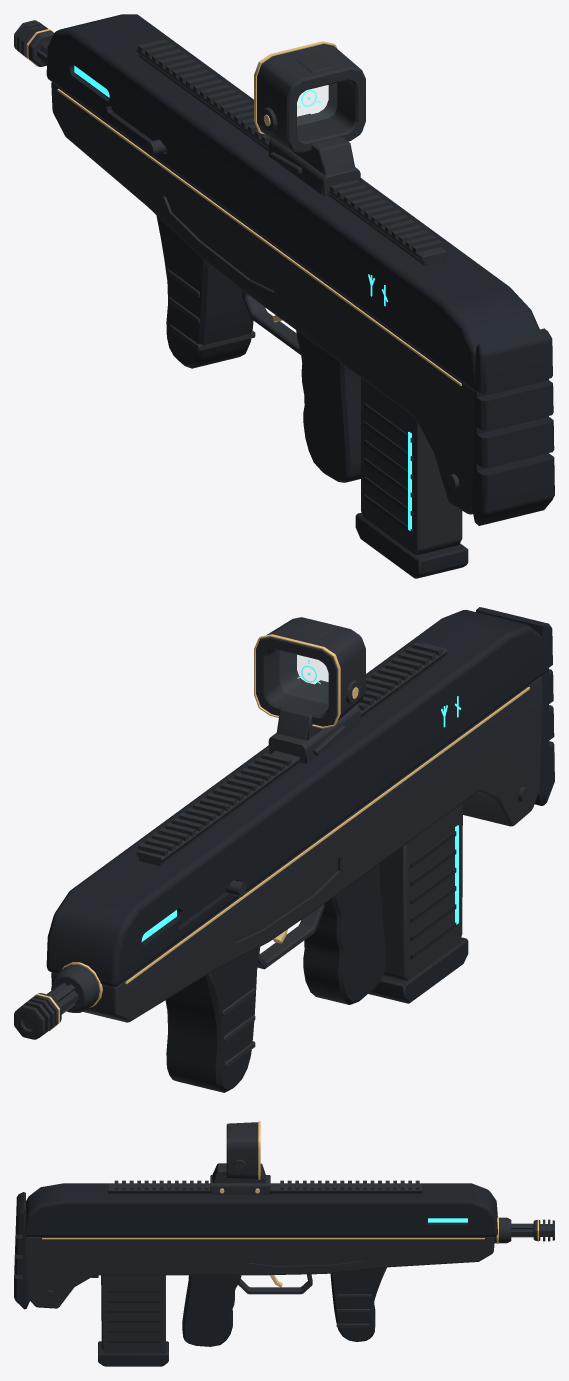
File: weapon_p90.glb
The picture shows the model from 3 angles, top to bottom: view 1: azimuth 30°, elevation 25°; view 2: azimuth 150°, elevation 25°; view 3: azimuth 270°, elevation 25°; orthographic projection. The views are drawn at different scales.
Visible parts, largest first — view 1: p90_polymer, p90_metal, p90_gold, p90_glass, p90_glow; view 2: p90_polymer, p90_metal, p90_gold, p90_glass, p90_glow; view 3: p90_polymer, p90_metal, p90_gold.
Boxes of the visible parts, x1,y1,x2,y2 form: p90_polymer: [46, 14, 554, 578]; p90_metal: [14, 20, 474, 554]; p90_gold: [26, 29, 461, 385]; p90_glass: [297, 83, 336, 125]; p90_glow: [74, 65, 411, 530]; p90_polymer: [46, 607, 554, 1092]; p90_metal: [14, 617, 542, 1068]; p90_gold: [28, 634, 529, 1031]; p90_glass: [280, 651, 327, 703]; p90_glow: [141, 660, 460, 941]; p90_polymer: [14, 1177, 497, 1366]; p90_metal: [27, 1122, 554, 1353]; p90_gold: [42, 1121, 538, 1287].
Size of the model in its own units: 0.0775 by 0.346 by 0.7329.
